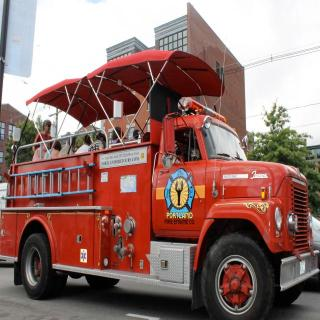Fire_truck: (1, 49, 320, 319)
